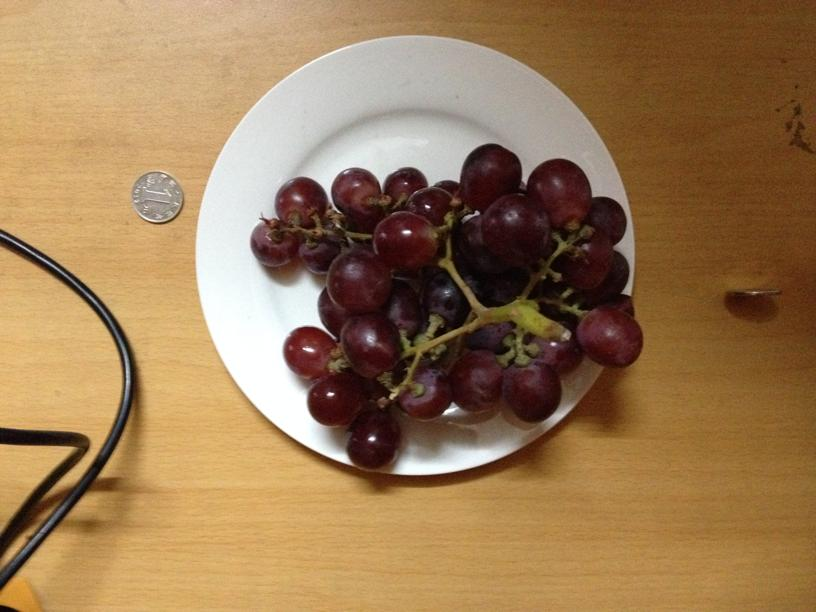coin: (129, 172, 182, 224)
grape: (252, 148, 642, 470)
